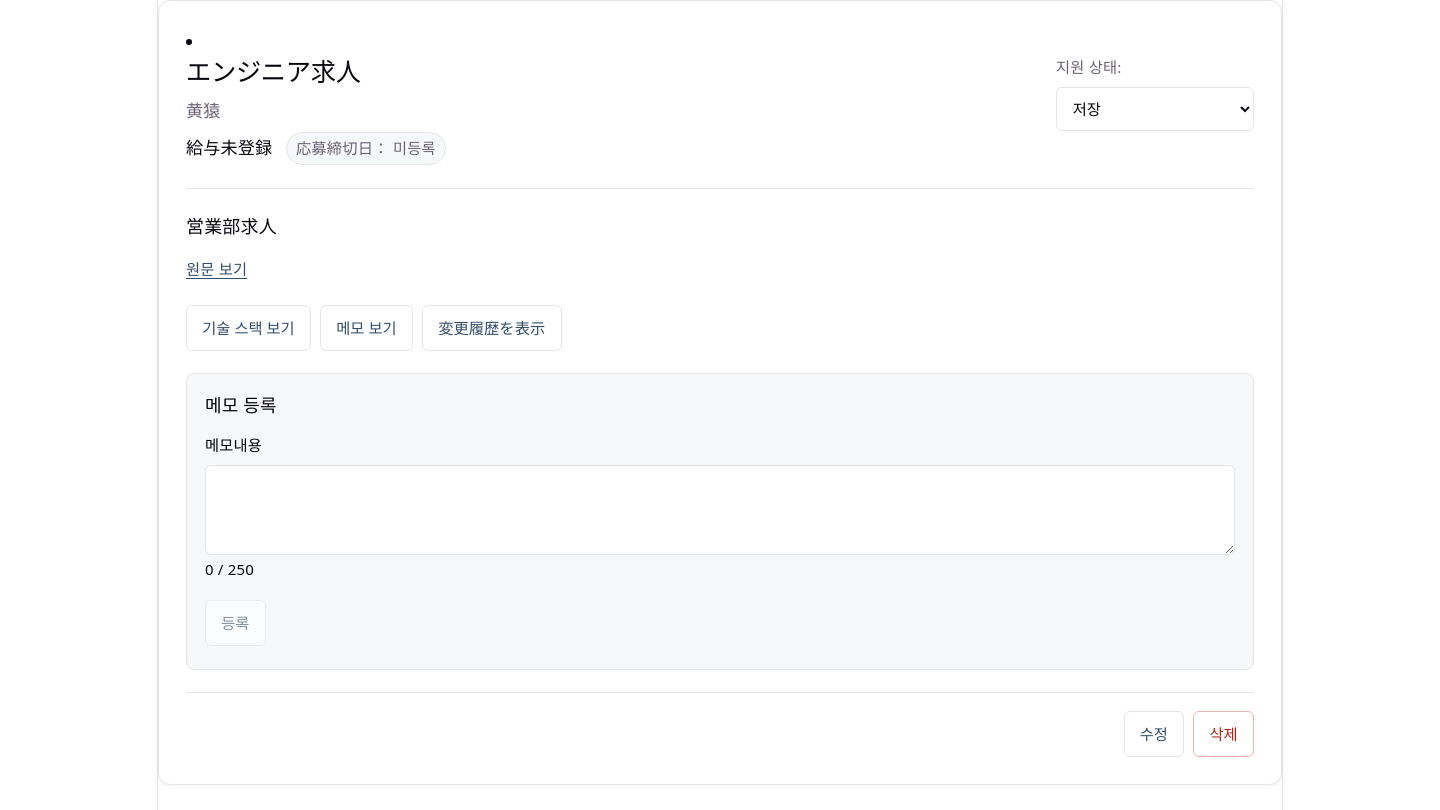
Test: memos › 메모 보기 버튼을 눌렀을 때, 첫번째 시도에서 실패하더라도 두번째에서 재시도할 수 있다.
The image size is (1440, 810).
Click the button "메모 보기".
click(366, 328)  # box [320,305,413,351]
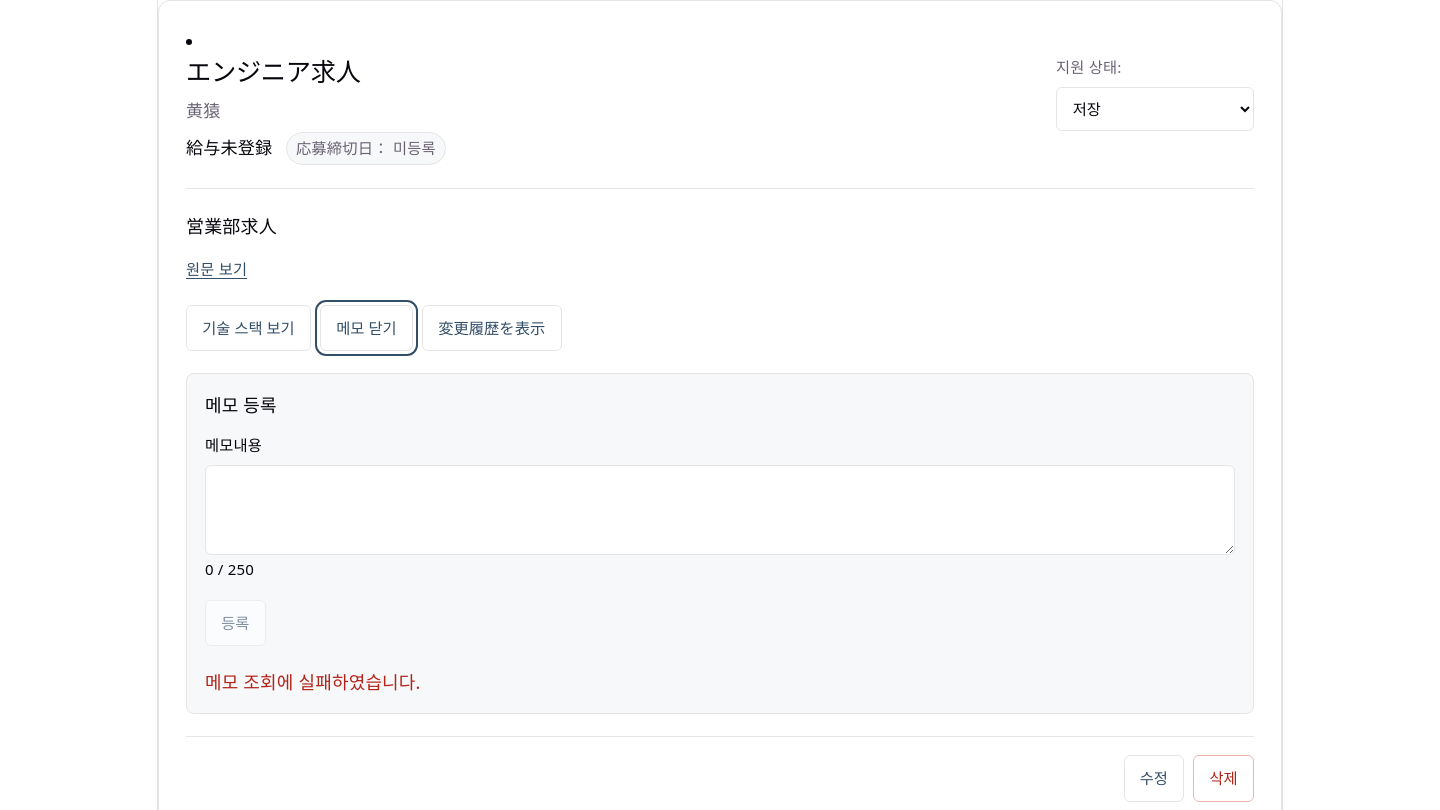
Expected: the text "메모 조회에 실패하였습니다." is shown, [205,670,421,694]
Click the button named "메모 보기".
click(366, 328)  # box [320,305,413,351]
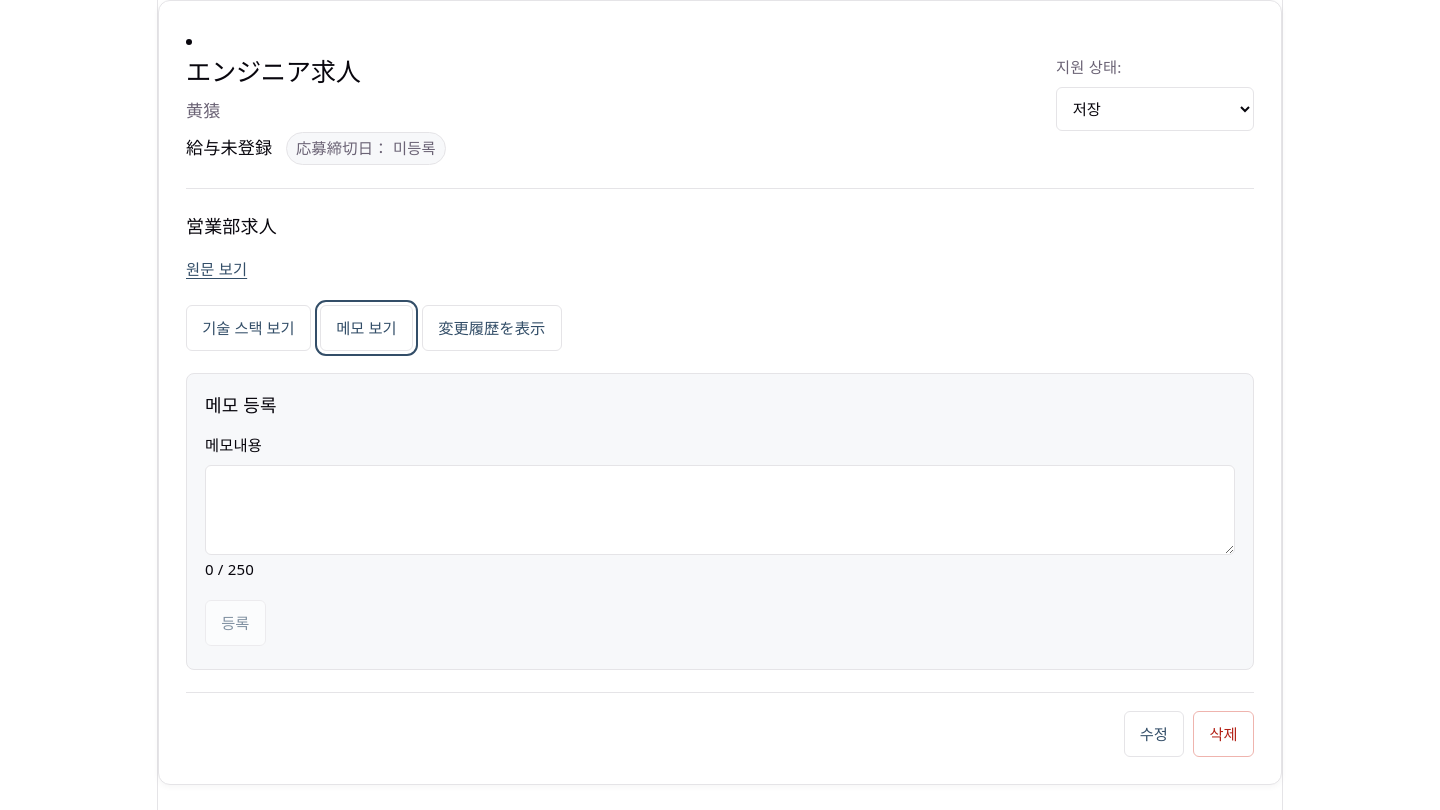
Expected: the text "面談準備中" is not shown
Click the button "메모 보기".
click(366, 328)  # box [320,305,413,351]
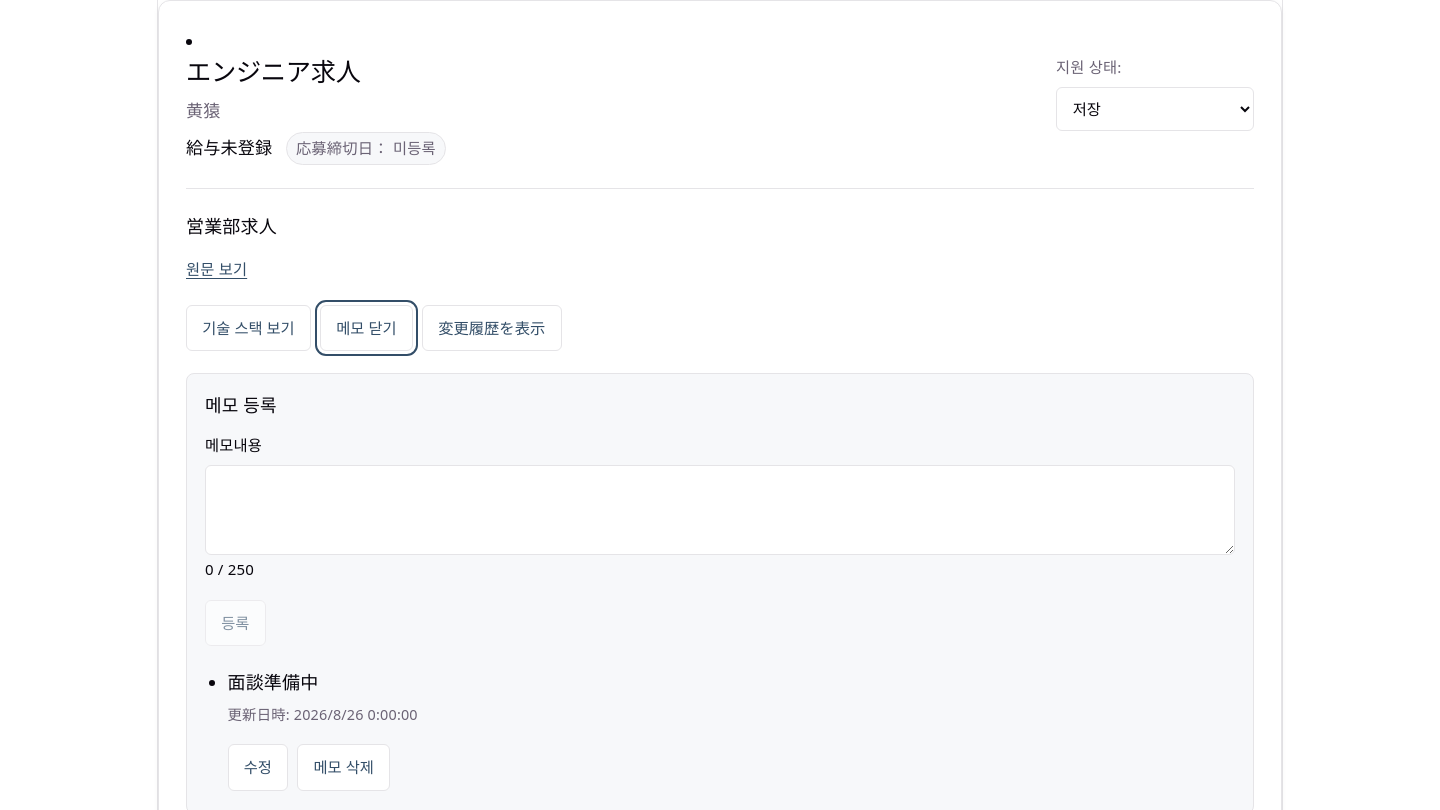
Expected: the text "메모 조회에 실패하였습니다." is not shown
Expected: the text "面談準備中" is shown, [228,670,318,694]
